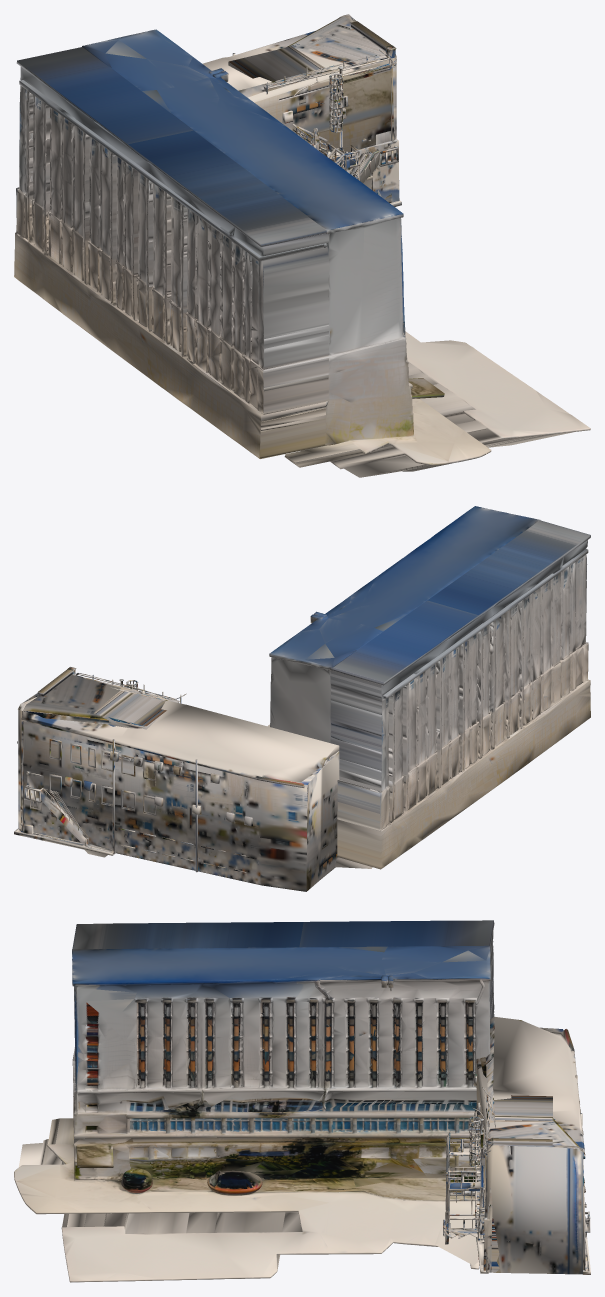
The model's file is EnergyBuild.fbx.
The picture shows the model from 3 angles, top to bottom: view 1: azimuth 30°, elevation 25°; view 2: azimuth 150°, elevation 25°; view 3: azimuth 270°, elevation 25°; orthographic projection. The views are drawn at different scales.
Visible parts, largest first — view 1: texture_pbr_v128.002; view 2: texture_pbr_v128.002; view 3: texture_pbr_v128.002.
Part boxes in pixels (left/top/right/bottom): texture_pbr_v128.002: left=14, top=14, right=590, bottom=477; texture_pbr_v128.002: left=14, top=506, right=590, bottom=891; texture_pbr_v128.002: left=14, top=920, right=590, bottom=1282.
Bounding box in the file's own units: 178 × 119 × 272.
Materials: 4 (4 with a texture image).
